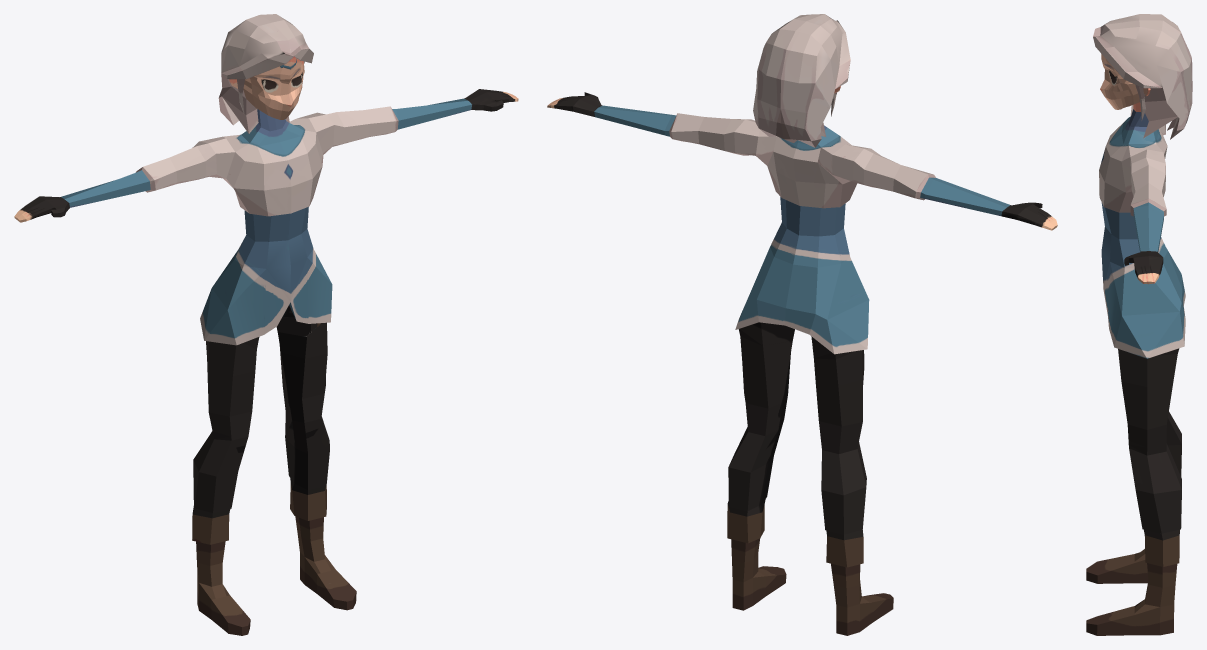
The model's file is MeridaModelo.fbx.
The picture shows the model from 3 angles, left to right: view 1: azimuth 30°, elevation 25°; view 2: azimuth 150°, elevation 25°; view 3: azimuth 270°, elevation 25°; orthographic projection.
Visible parts, largest first — view 1: Cylinder.002; view 2: Cylinder.002; view 3: Cylinder.002.
Part boxes in pixels (x1,y1,x2,y2): Cylinder.002: (14,14,518,635); Cylinder.002: (547,14,1057,635); Cylinder.002: (1086,14,1192,635).
Bounding box in the file's own units: 4365 × 4854 × 799.
